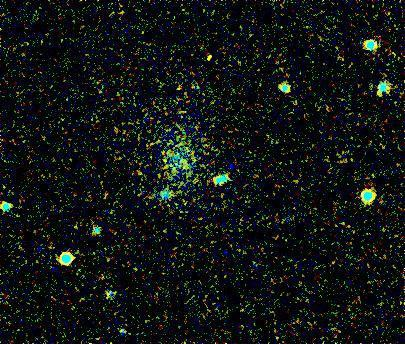star: (194, 42, 224, 72)
